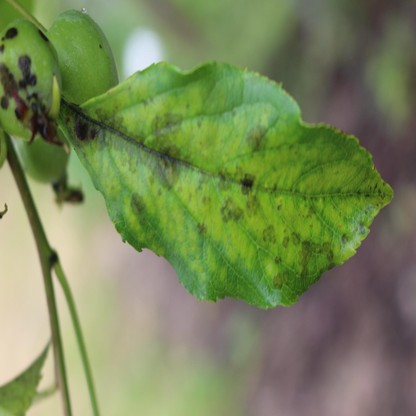scab: (71, 98, 386, 291)
